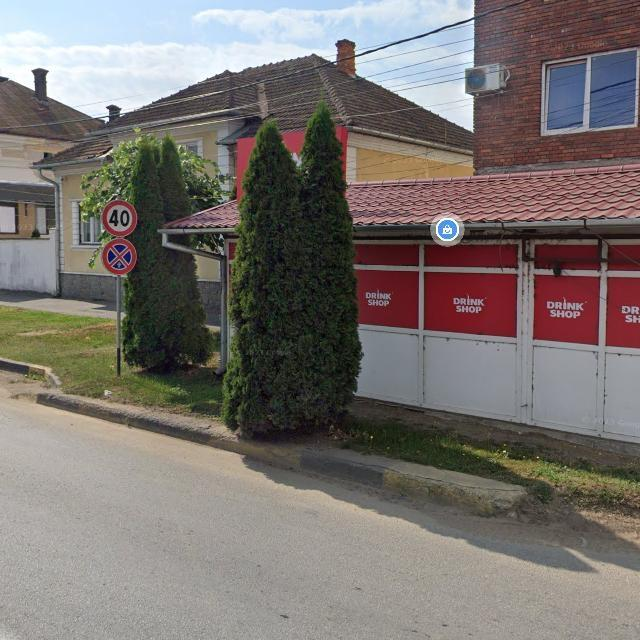forb_speed_over_40: (102, 199, 138, 238)
forb_waiting: (102, 238, 137, 275)
